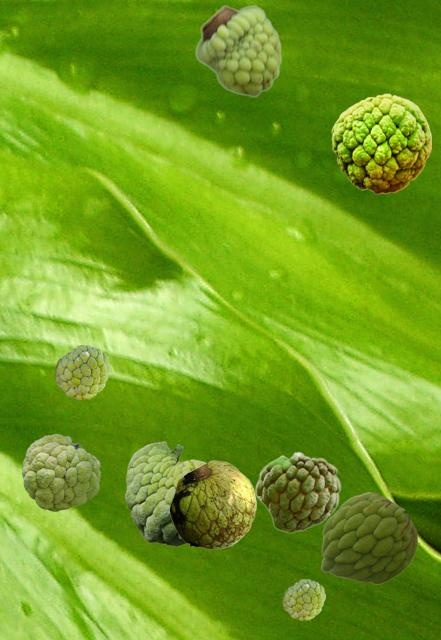atis: (331, 93, 430, 193), (321, 492, 416, 583), (125, 441, 205, 545), (195, 4, 281, 97), (169, 460, 255, 548), (254, 451, 340, 532), (22, 434, 99, 510), (54, 345, 109, 398), (282, 579, 324, 619)
